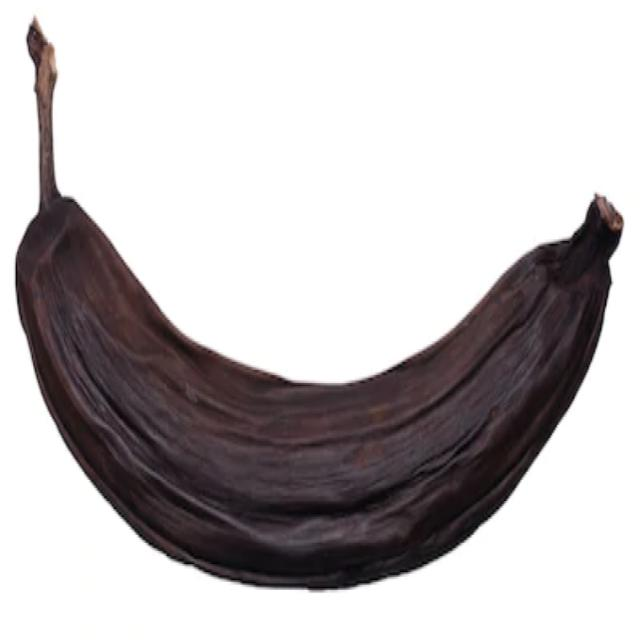rotten-banana: (13, 13, 624, 590)
